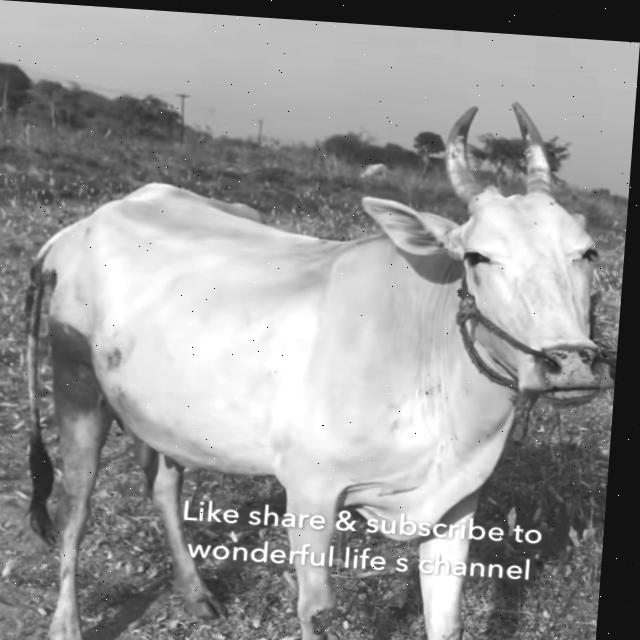Cow: (0, 69, 634, 640)
